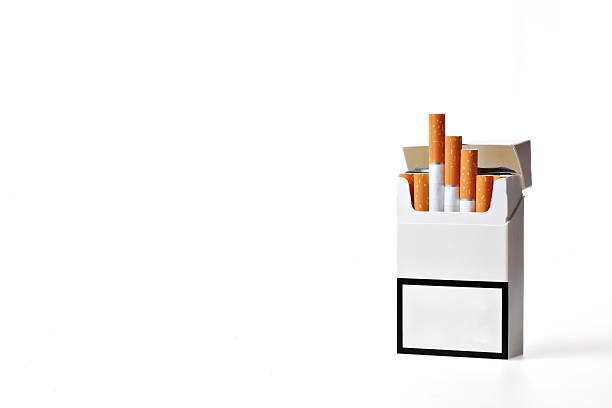cigarette: (392, 138, 530, 361), (429, 112, 445, 211), (445, 135, 462, 211), (459, 148, 479, 212), (476, 175, 493, 212), (413, 172, 429, 210), (397, 173, 414, 207)
